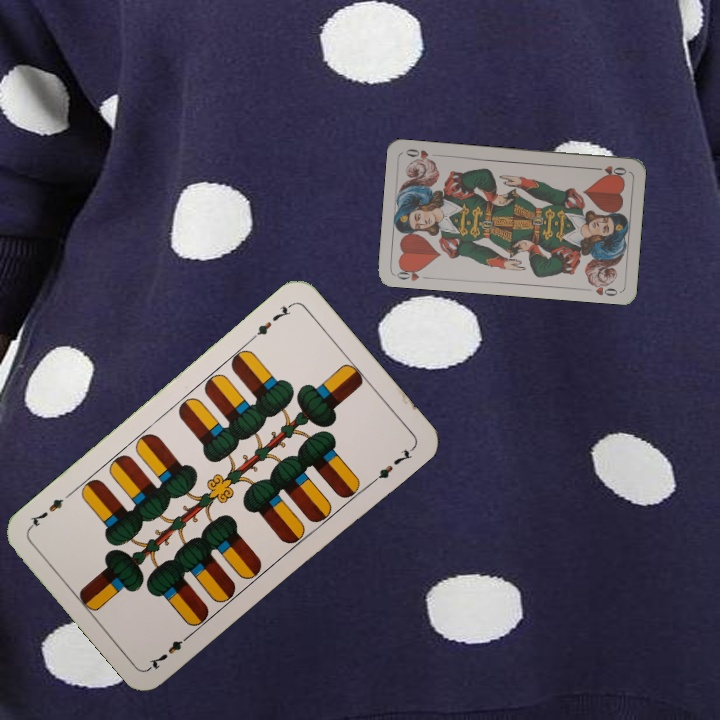E7: (145, 629, 195, 672), (247, 299, 295, 343)
HO: (393, 263, 432, 284), (589, 161, 629, 179)
